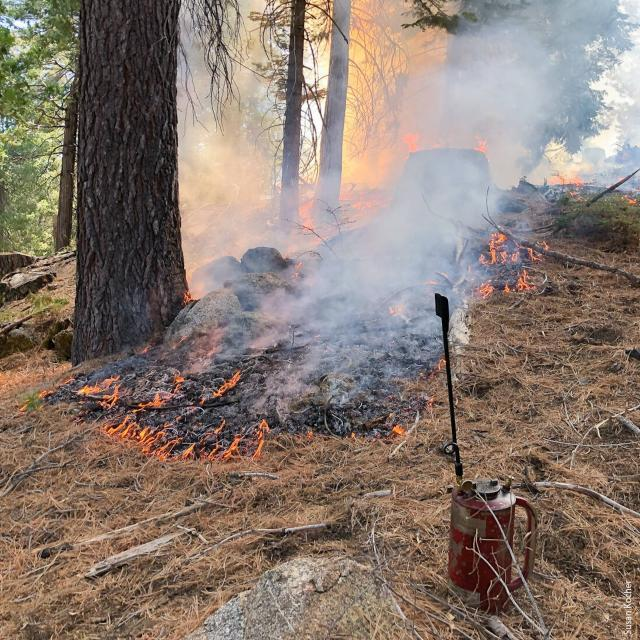Fire: (52, 348, 334, 474), (464, 200, 558, 299)
Smoke: (358, 0, 640, 293), (391, 0, 640, 259), (446, 29, 640, 168), (194, 8, 268, 370), (188, 233, 412, 345), (275, 259, 407, 345), (284, 186, 388, 261)
